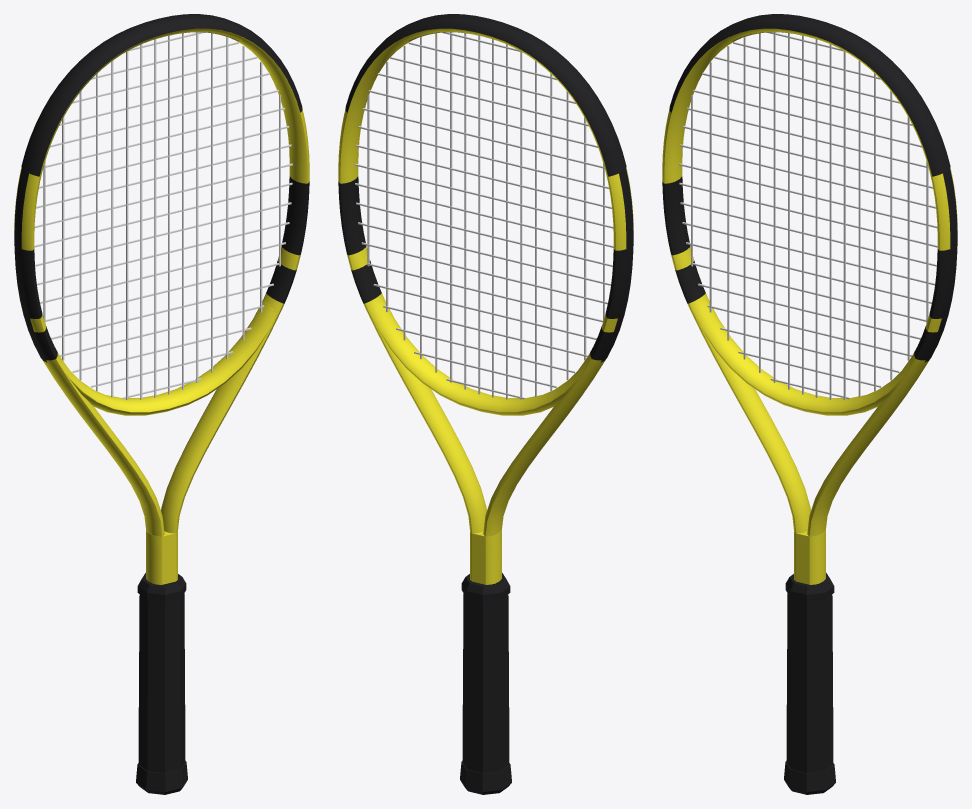
Rendered from babolat-pure-aero-tour-2019.glb.
The picture shows the model from 3 angles, left to right: view 1: azimuth 30°, elevation 25°; view 2: azimuth 150°, elevation 25°; view 3: azimuth 330°, elevation 25°; orthographic projection.
Visible parts, largest first — view 1: frame, strings_mains, strings_crosses, grip, bumper, grommets, butt_cap, collar; view 2: frame, strings_mains, strings_crosses, grip, bumper, grommets, butt_cap, collar; view 3: frame, strings_mains, strings_crosses, grip, bumper, grommets, butt_cap, collar.
Part boxes in pixels (bbox=[...]): frame: bbox=[14, 28, 309, 584]; strings_mains: bbox=[43, 32, 280, 399]; strings_crosses: bbox=[34, 32, 292, 399]; grip: bbox=[138, 593, 185, 772]; bumper: bbox=[21, 14, 302, 176]; grommets: bbox=[14, 168, 47, 362]; butt_cap: bbox=[136, 761, 187, 794]; collar: bbox=[137, 573, 186, 601]; frame: bbox=[338, 28, 633, 584]; strings_mains: bbox=[367, 32, 604, 399]; strings_crosses: bbox=[354, 32, 613, 399]; grip: bbox=[462, 593, 509, 772]; bumper: bbox=[345, 14, 626, 176]; grommets: bbox=[600, 168, 633, 362]; butt_cap: bbox=[460, 761, 511, 794]; collar: bbox=[461, 573, 510, 601]; frame: bbox=[662, 28, 957, 584]; strings_mains: bbox=[691, 32, 928, 399]; strings_crosses: bbox=[679, 32, 937, 399]; grip: bbox=[786, 593, 833, 772]; bumper: bbox=[669, 14, 950, 176]; grommets: bbox=[924, 168, 957, 362]; butt_cap: bbox=[784, 761, 835, 794]; collar: bbox=[785, 573, 834, 601].
Size of the model in its own units: 0.2718 by 0.6861 by 0.0396.
